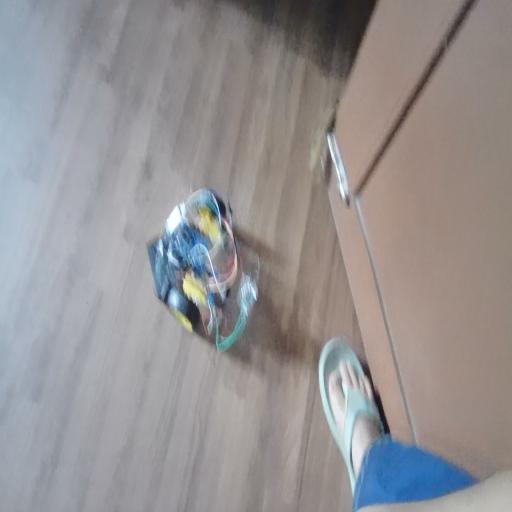car: (153, 178, 247, 344)
